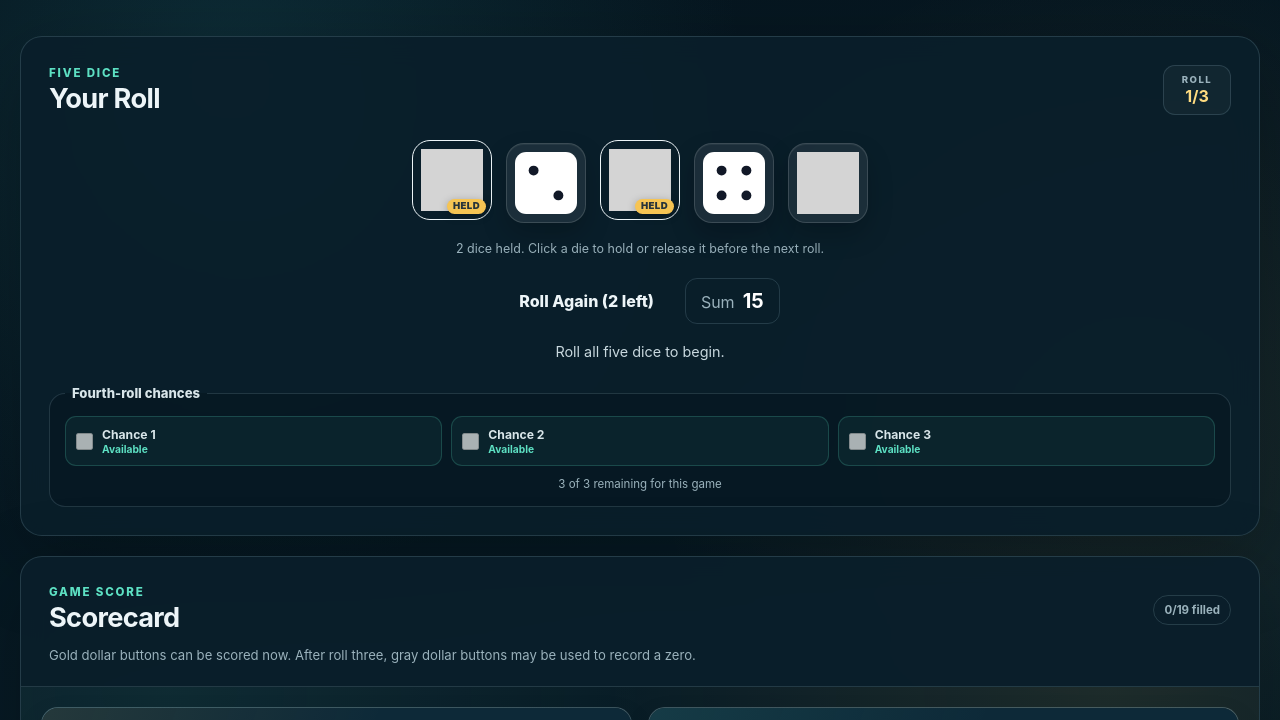
Test: dice roll animation › tumbles only unheld dice in the classic theme without changing results or saving extra state
Click the button "Roll Again (2 left)": (587, 301) [500,278,673,324]
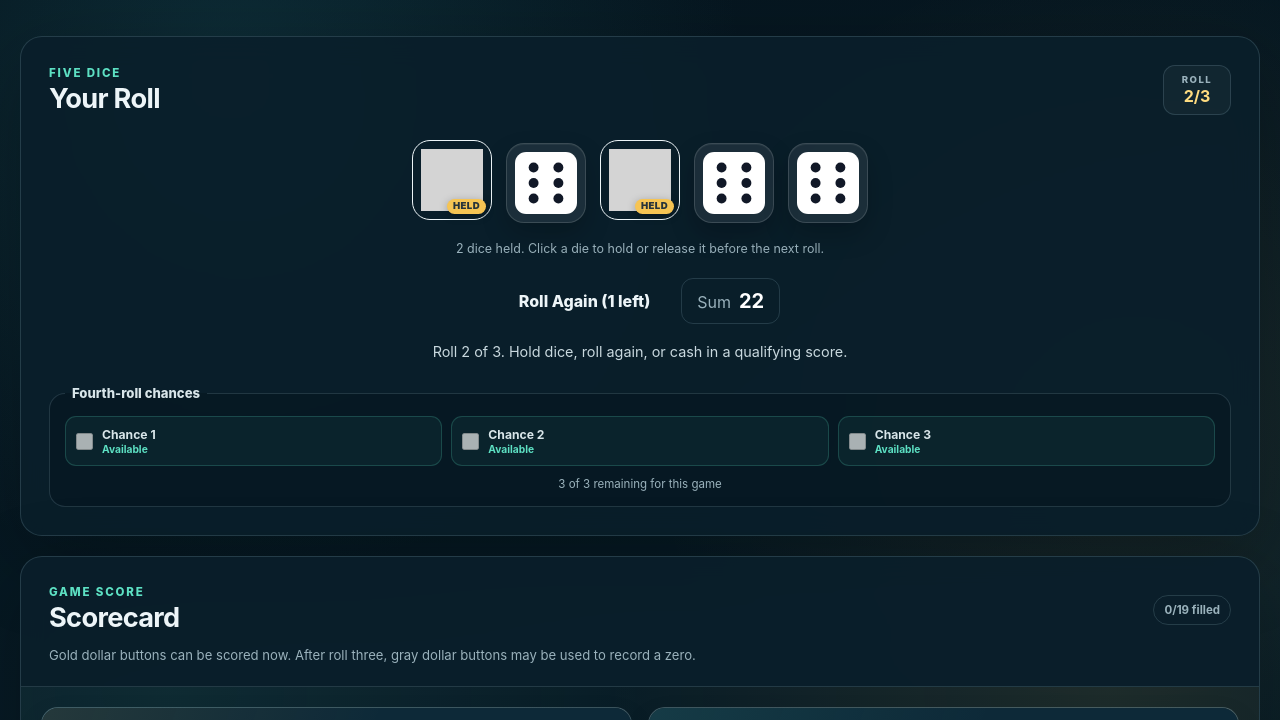
Expected: the number of pictures with class "die-tumbling" is 3, [515,152,577,214]; [703,152,765,214]; [797,152,859,214]
Expected: the element named "Dice total 22" is shown, [412,140,868,223]
